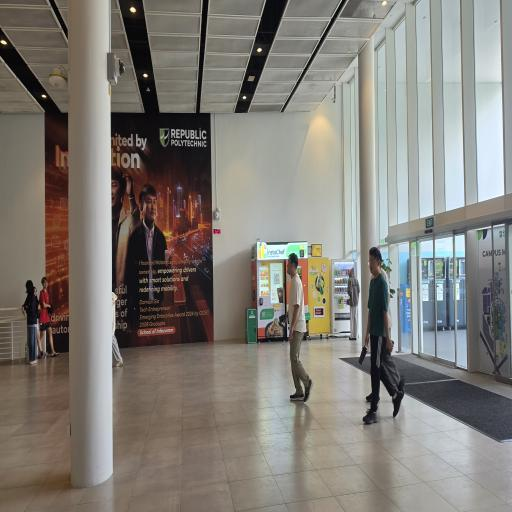person_left: (366, 252, 404, 426), (278, 246, 316, 407)
person_right: (40, 274, 56, 357)
